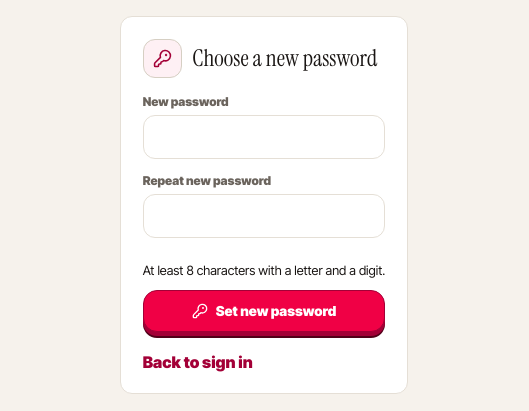
Scenario: password reset pages › confirms a new password with the token from the link
The width and height of the screenshot is (529, 411).
Type "newpass12" into the password field labelled "New password" at point(264, 137), box [143, 115, 385, 159]
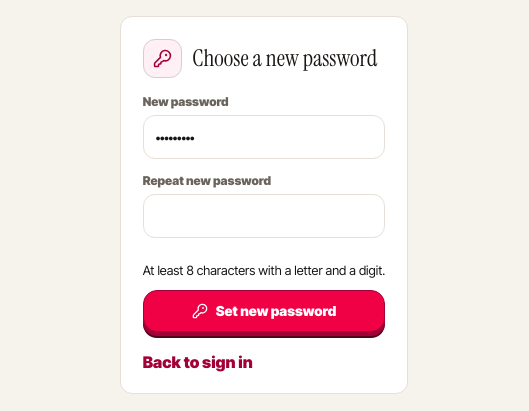
Type "newpass12" into the password field labelled "Repeat new password" at point(264, 216), box [143, 194, 385, 238]
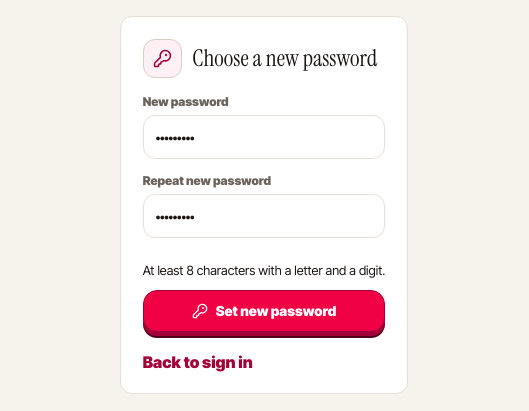
Click the button "Set new password" at point(264, 311), box [143, 290, 385, 332]
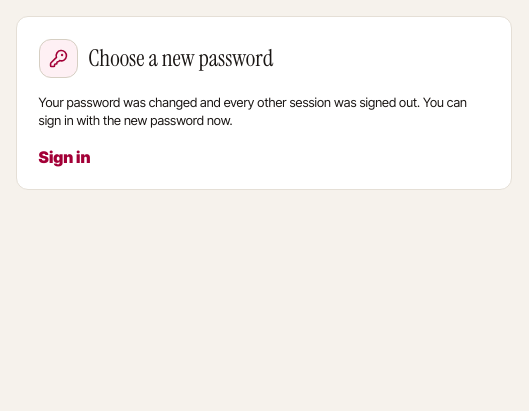
Expected: the message shows "Your password was changed", [39, 95, 467, 128]
